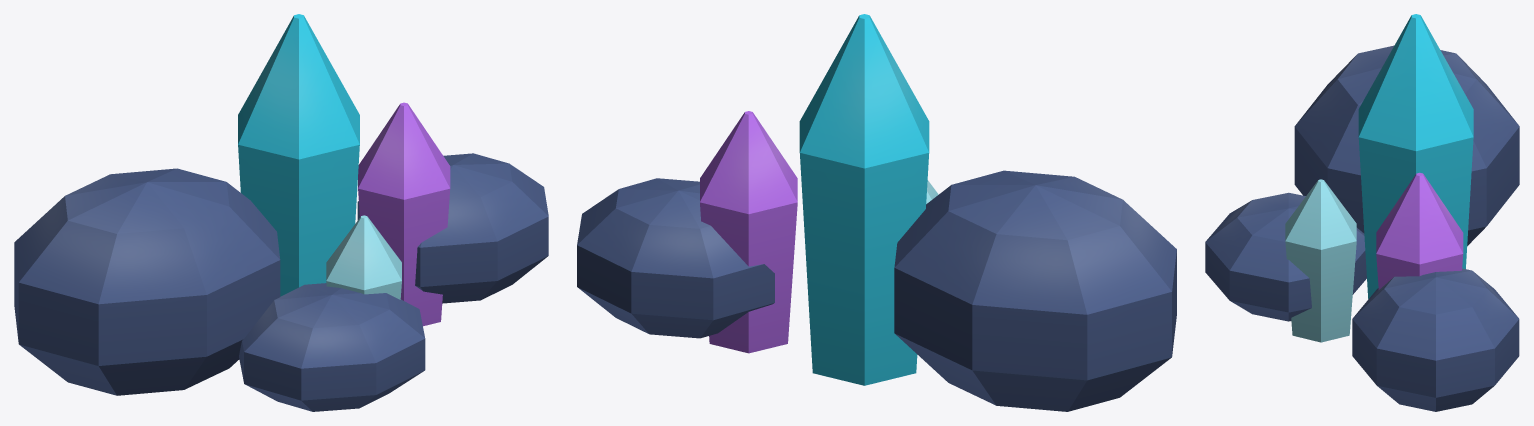
Rendered from RocksCrystals.fbx.
The picture shows the model from 3 angles, left to right: view 1: azimuth 30°, elevation 25°; view 2: azimuth 150°, elevation 25°; view 3: azimuth 270°, elevation 25°; orthographic projection. The views are drawn at different scales.
Parts seen in each view (by area): view 1: RocksCrystals; view 2: RocksCrystals; view 3: RocksCrystals.
Part boxes in pixels (box(x1,y1,x2,y2)): RocksCrystals: box(14, 14, 548, 411); RocksCrystals: box(577, 14, 1176, 411); RocksCrystals: box(1205, 14, 1519, 411).
Size of the model in its own units: 3.28 by 1.88 by 1.75.
Materials: 1 (1 with a texture image).
